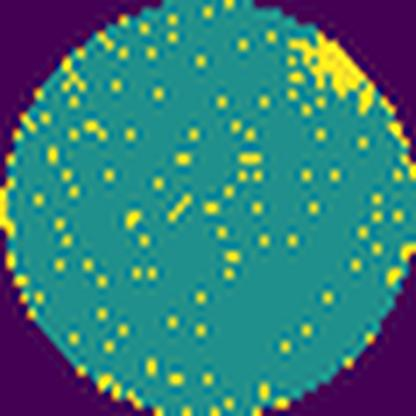Edge-Loc: (288, 26, 376, 116)
